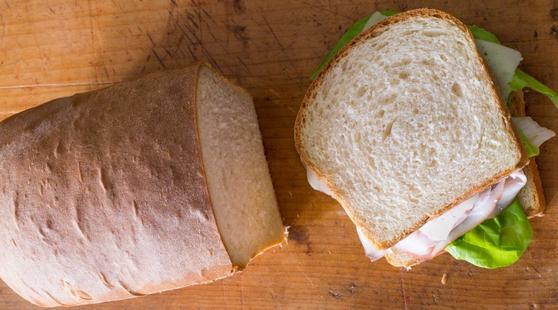white_bread: (3, 55, 303, 303)
